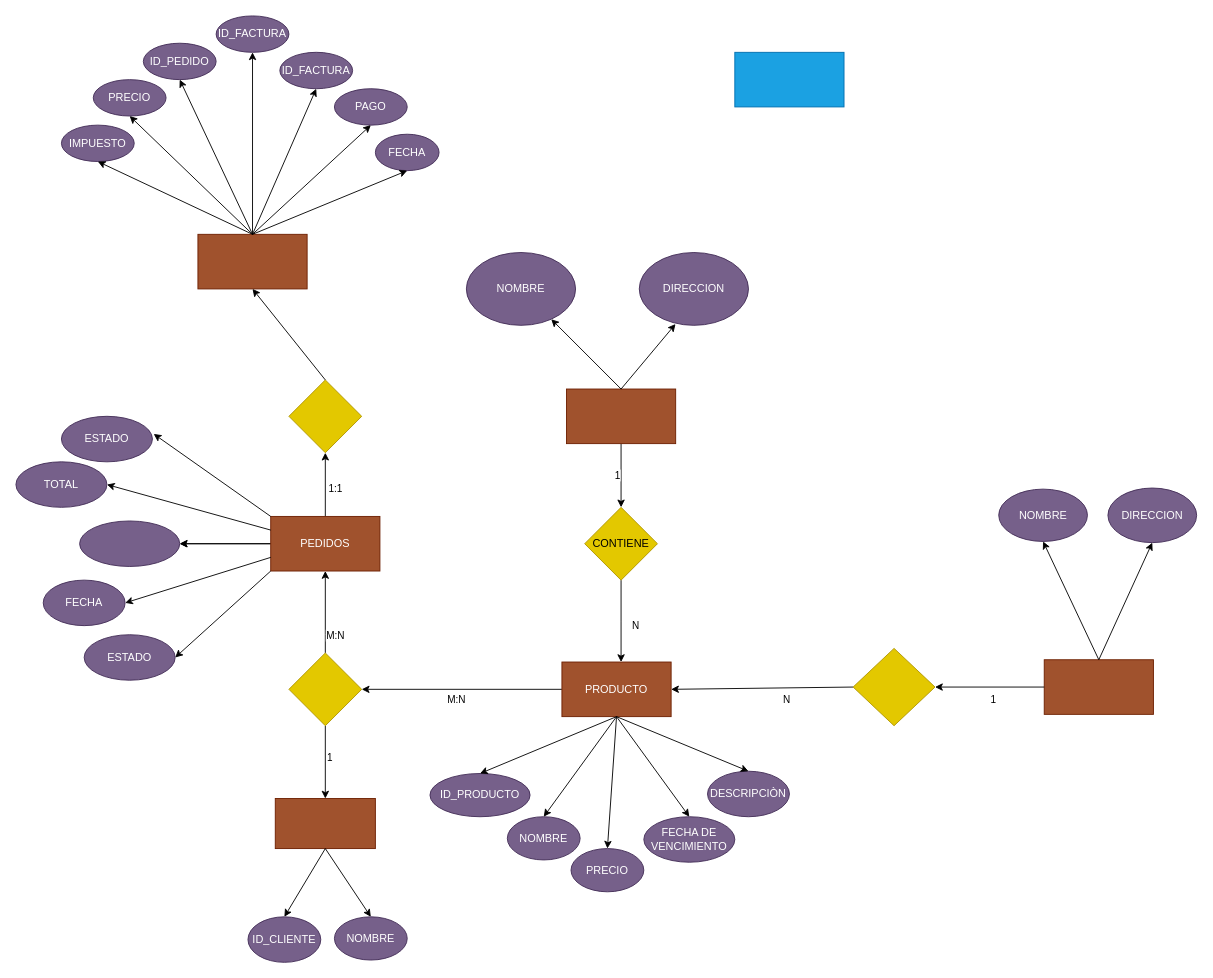
Image size: 1213x978. Some labels were removed from this diagram. The box of each missing label's shape, as (x1, y1, x2, y2) in pixels:
CLIENTE: (274, 798, 375, 849)
FACTURA: (197, 233, 307, 289)
GENERA: (288, 379, 362, 453)
ID PEDIDO: (79, 520, 180, 566)
NEGOCIO: (566, 388, 676, 444)
PROVEEDOR: (1043, 659, 1153, 714)
REALIZA: (288, 652, 362, 726)
SUMINISTRA: (852, 647, 935, 726)
YEREMI ADIEL YOLA LIVEREN: (734, 51, 844, 107)
